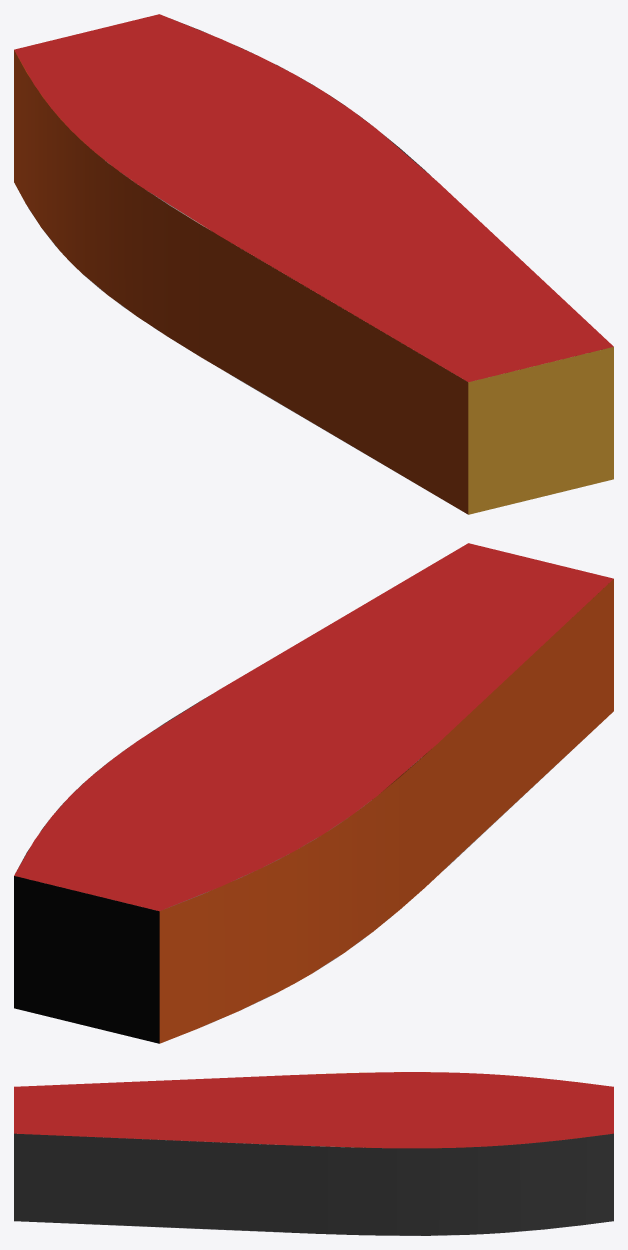
File: Casket2025—4.glb
3 views of the same model, one above another, from view 1: azimuth 30°, elevation 25°; view 2: azimuth 150°, elevation 25°; view 3: azimuth 270°, elevation 25° (orthographic). The views are drawn at different scales.
Bounding box in the file's own units: 0.0757 × 0.0405 × 0.2513.
Materials: 7 (1 with a texture image).
